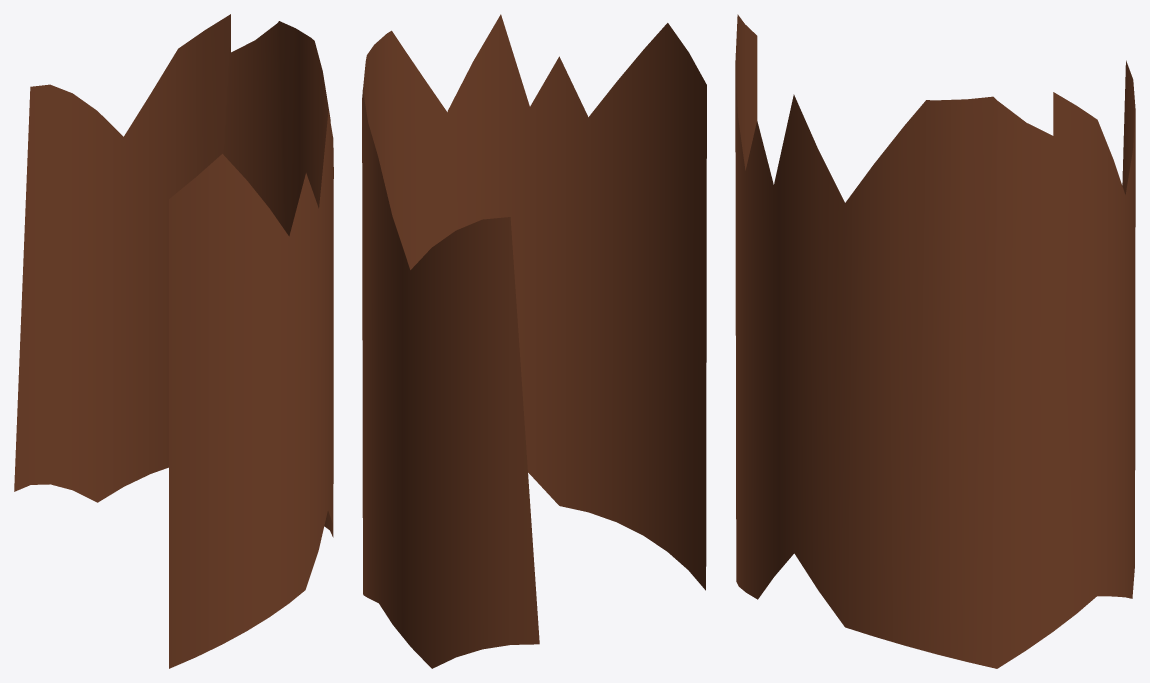
File: Blut_Flasche_2.fbx
The picture shows the model from 3 angles, left to right: view 1: azimuth 30°, elevation 25°; view 2: azimuth 150°, elevation 25°; view 3: azimuth 270°, elevation 25°; orthographic projection. The views are drawn at different scales.
Parts seen in each view (by area): view 1: Bierflasche_zerbrochen_blut; view 2: Bierflasche_zerbrochen_blut; view 3: Bierflasche_zerbrochen_blut.
Boxes of the visible parts, box(x1,y1,x2,y2) form: Bierflasche_zerbrochen_blut: box(14, 14, 333, 668); Bierflasche_zerbrochen_blut: box(362, 14, 706, 668); Bierflasche_zerbrochen_blut: box(735, 14, 1135, 668).
Bounding box in the file's own units: 5.22 × 11.83 × 7.18.
